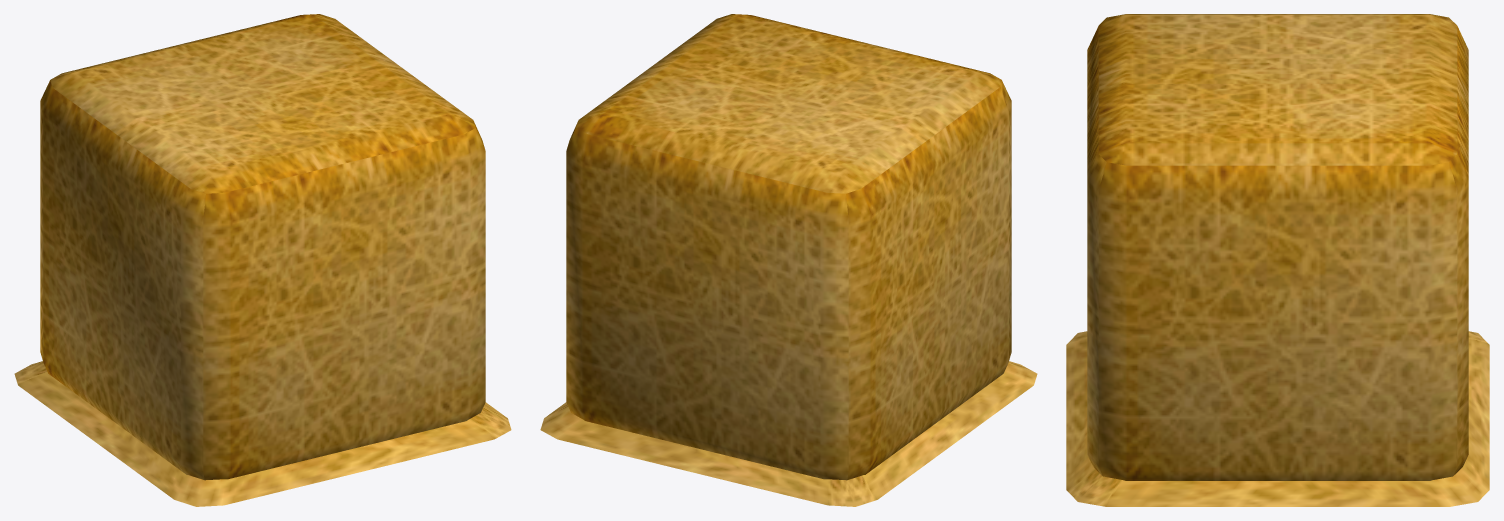
File: HAYBAIL.fbx
The picture shows the model from 3 angles, left to right: view 1: azimuth 30°, elevation 25°; view 2: azimuth 150°, elevation 25°; view 3: azimuth 270°, elevation 25°; orthographic projection. The views are drawn at different scales.
Parts seen in each view (by area): view 1: HAYBAIL; view 2: HAYBAIL; view 3: HAYBAIL.
Part boxes in pixels (x1=…): HAYBAIL: x1=14, y1=14, x2=511, y2=506; HAYBAIL: x1=540, y1=14, x2=1037, y2=506; HAYBAIL: x1=1066, y1=14, x2=1489, y2=506.
Bounding box in the file's own units: 8843 × 7969 × 8843.
2 materials, 2 textured.
